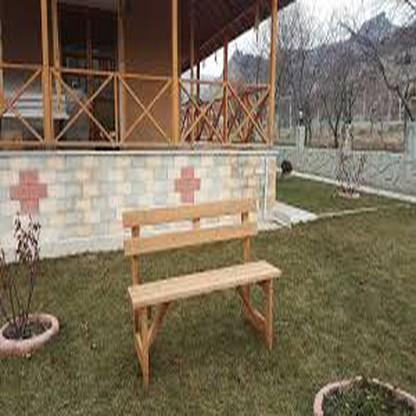obstacle: (100, 201, 297, 372)
